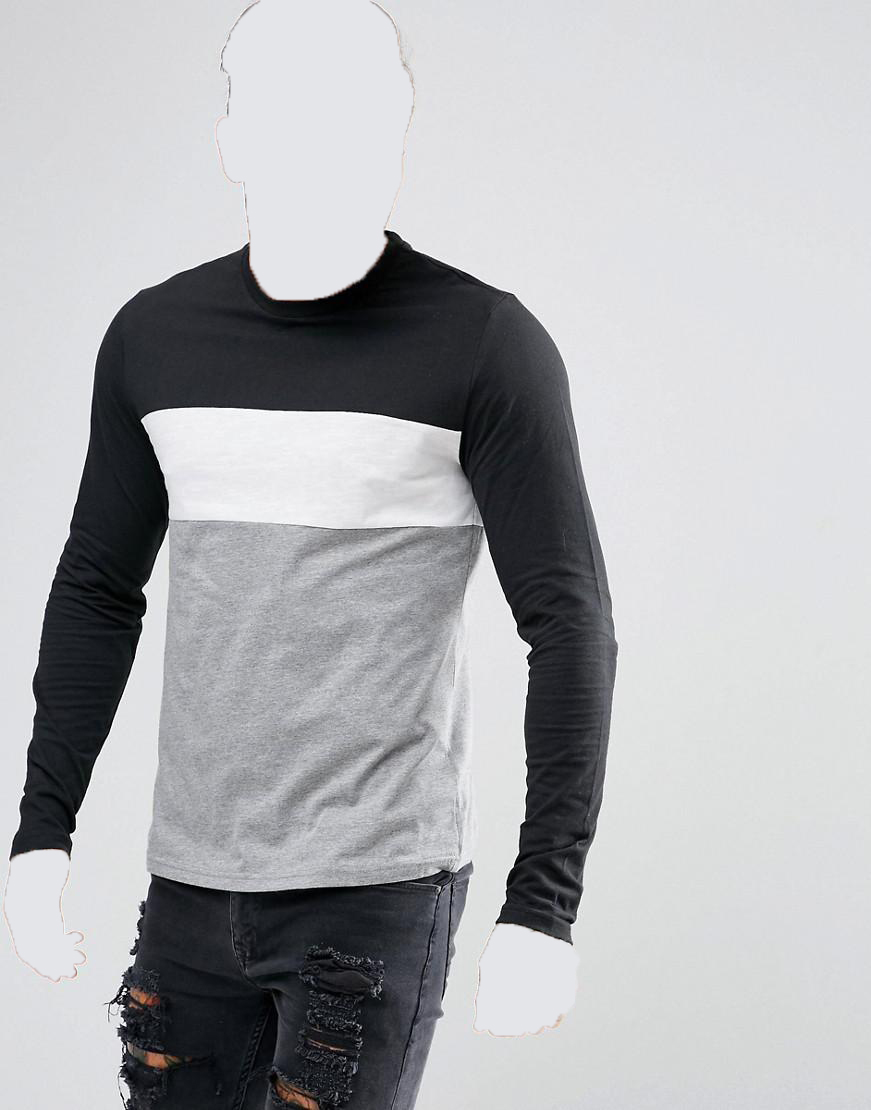teeshirt: (15, 225, 652, 947)
